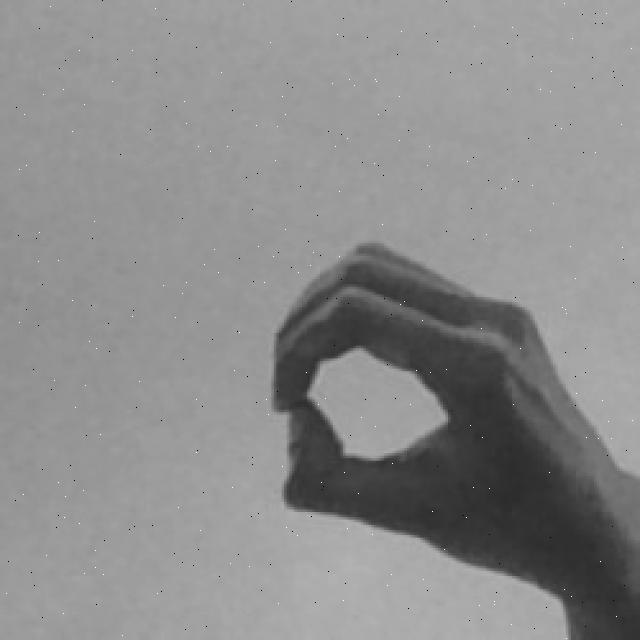O: (263, 227, 640, 637)
